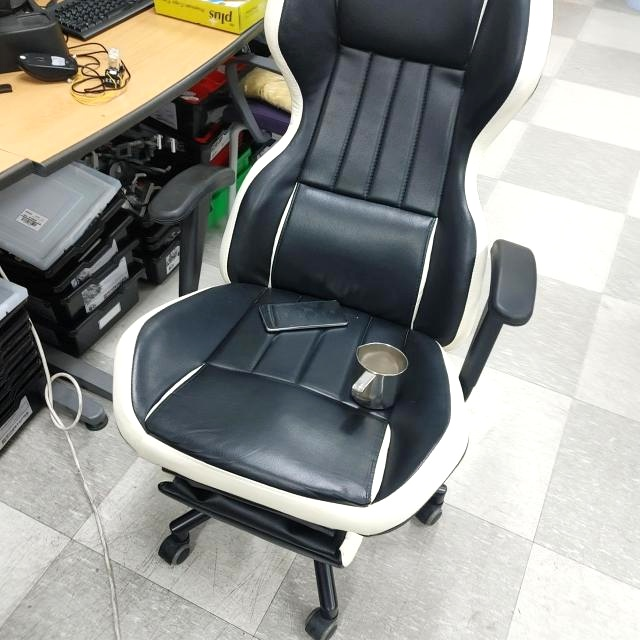cup: (348, 340, 409, 412)
phone: (256, 299, 348, 333)
